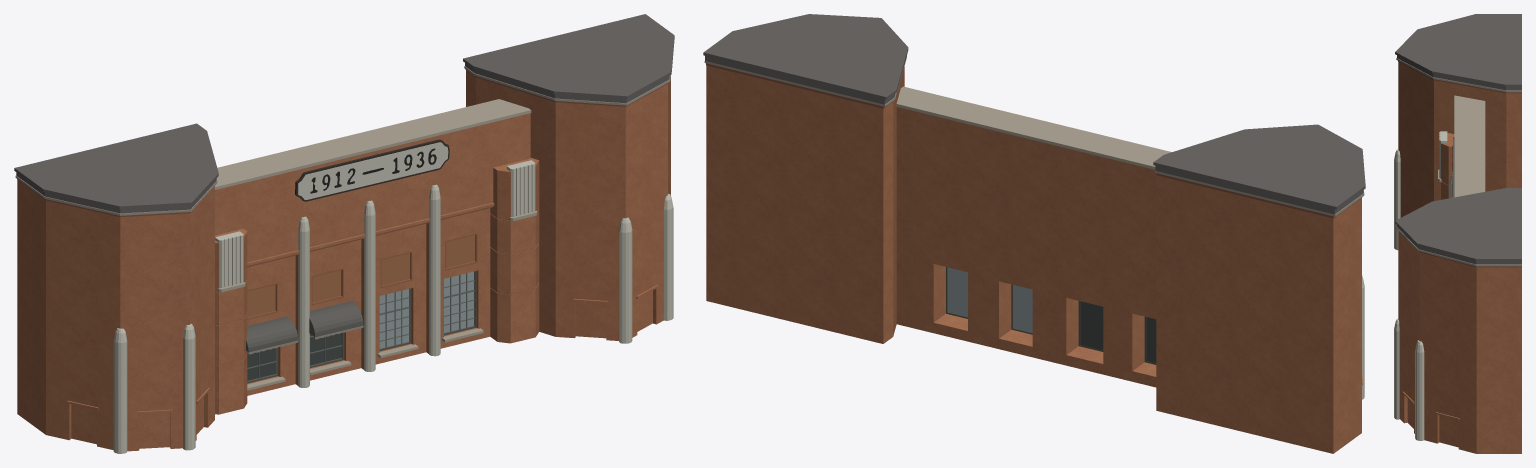
File: hongkou-tanggu-road-apartment-dated-crown-lod.glb
The picture shows the model from 3 angles, left to right: view 1: azimuth 30°, elevation 25°; view 2: azimuth 150°, elevation 25°; view 3: azimuth 270°, elevation 25°; orthographic projection. The views are drawn at different scales.
Parts seen in each view (by area): view 1: 公安大楼塘沽路年份匾与双塔楼冠; view 2: 公安大楼塘沽路年份匾与双塔楼冠; view 3: 公安大楼塘沽路年份匾与双塔楼冠.
Boxes of the visible parts, <box> form: 公安大楼塘沽路年份匾与双塔楼冠: <box>14,14,674,453</box>; 公安大楼塘沽路年份匾与双塔楼冠: <box>703,14,1365,453</box>; 公安大楼塘沽路年份匾与双塔楼冠: <box>1394,14,1521,453</box>.
Bounding box in the file's own units: 16.32 × 6.1 × 3.6.
Materials: 18 (1 with a texture image).
